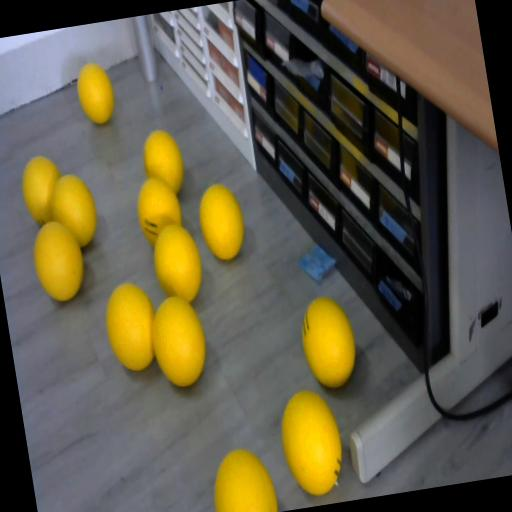FUEL: (274, 386, 348, 498), (295, 292, 361, 392), (98, 278, 164, 376), (145, 291, 211, 389), (26, 214, 90, 306), (147, 219, 207, 306), (206, 443, 278, 512), (194, 180, 249, 264), (16, 153, 68, 228), (138, 126, 188, 198), (73, 59, 117, 127)
